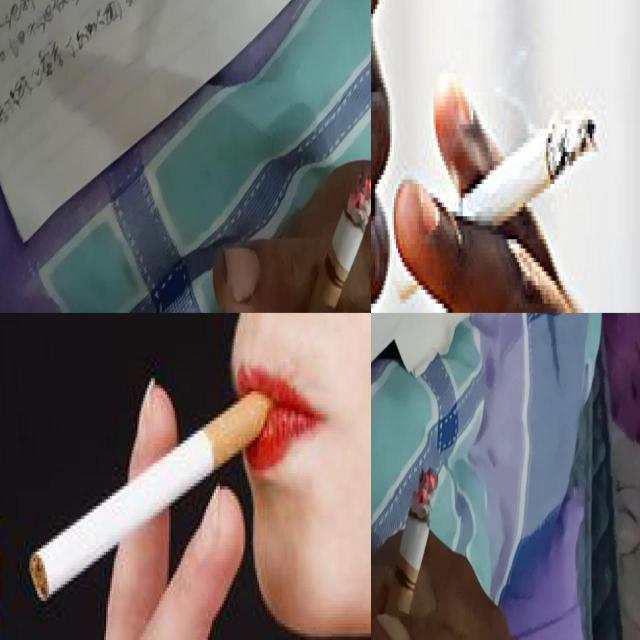smoke: (28, 386, 278, 604), (395, 109, 599, 306), (370, 468, 440, 640), (290, 169, 370, 312)
